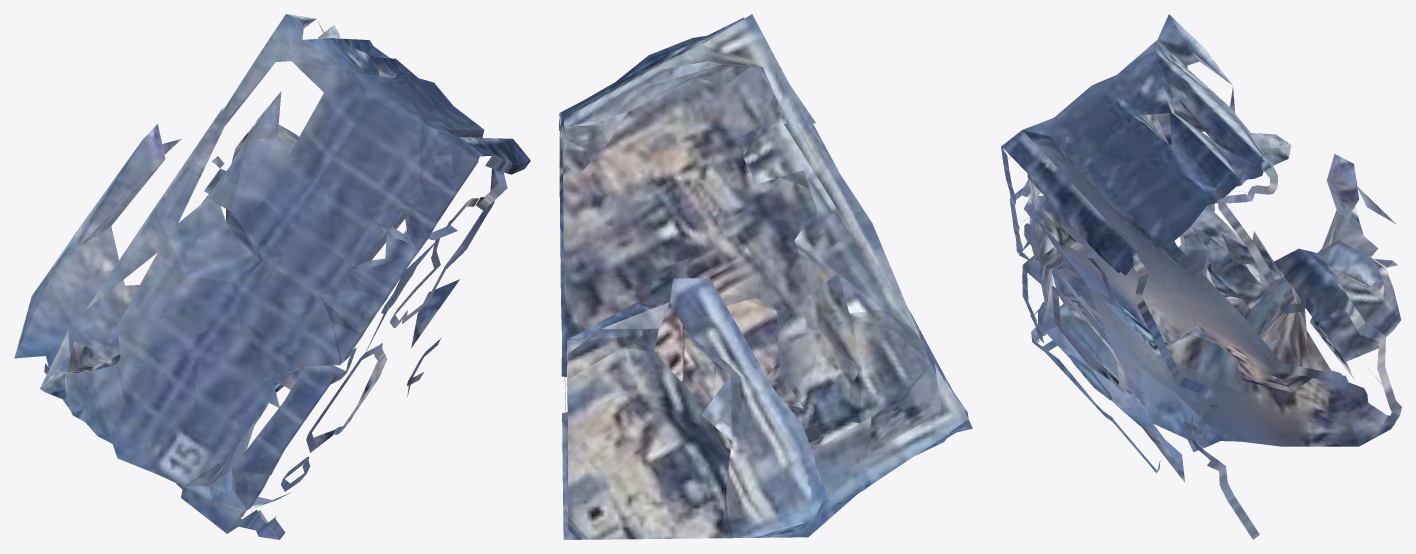
The picture shows the model from 3 angles, left to right: view 1: azimuth 30°, elevation 25°; view 2: azimuth 150°, elevation 25°; view 3: azimuth 270°, elevation 25°; orthographic projection. The views are drawn at different scales.
Size of the model in its own units: 24.1 by 26.66 by 20.83.
1 material, 1 textured.
